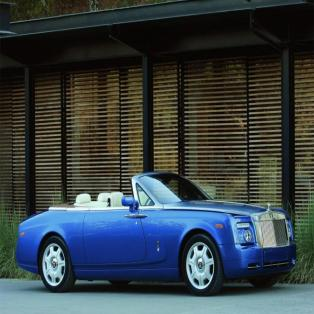Auto: (15, 171, 295, 296)
